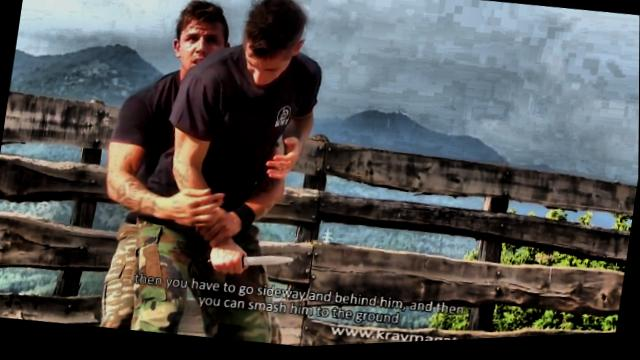knife: (202, 236, 298, 289)
